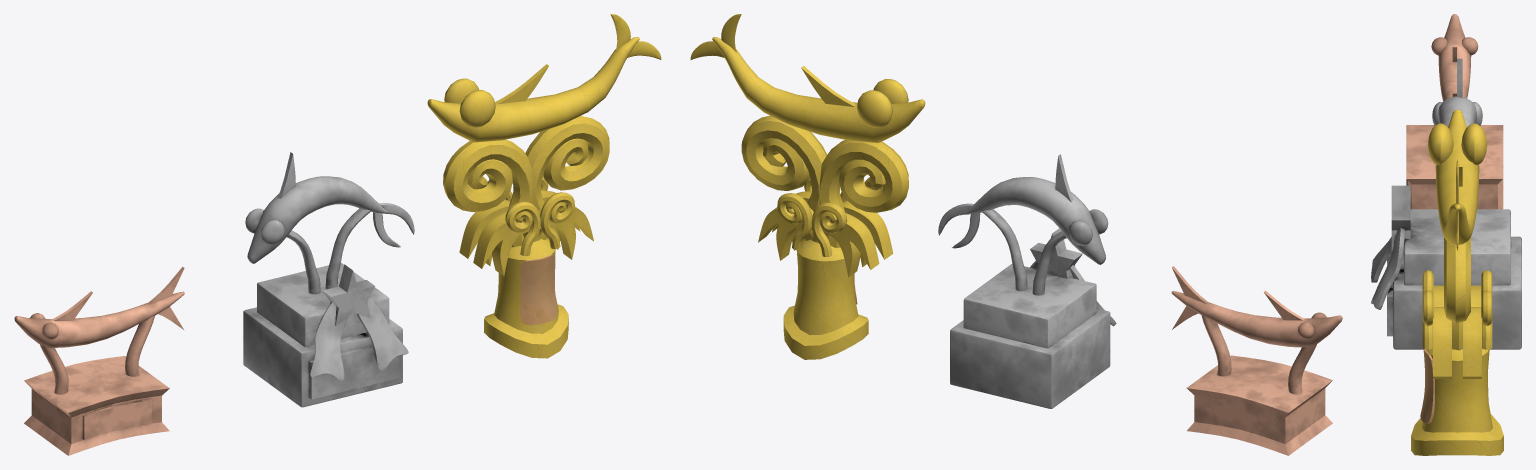
File: trofeos.fbx
3 renders of one model, left to right at view 1: azimuth 30°, elevation 25°; view 2: azimuth 150°, elevation 25°; view 3: azimuth 270°, elevation 25°, orthographic. The views are drawn at different scales.
Parts seen in each view (by area): view 1: Cylinder.005, Cylinder.004, Cylinder.002; view 2: Cylinder.005, Cylinder.004, Cylinder.002; view 3: Cylinder.005, Cylinder.004, Cylinder.002.
Boxes of the visible parts, <box> form: Cylinder.005: <box>427,14,661,358</box>; Cylinder.004: <box>243,152,414,407</box>; Cylinder.002: <box>14,266,184,455</box>; Cylinder.005: <box>690,14,925,359</box>; Cylinder.004: <box>938,154,1116,408</box>; Cylinder.002: <box>1171,266,1342,455</box>; Cylinder.005: <box>1411,109,1503,455</box>; Cylinder.004: <box>1371,58,1521,349</box>; Cylinder.002: <box>1406,14,1503,209</box>.
Bounding box in the file's own units: 171 × 77.78 × 31.67.
3 materials, 3 textured.
